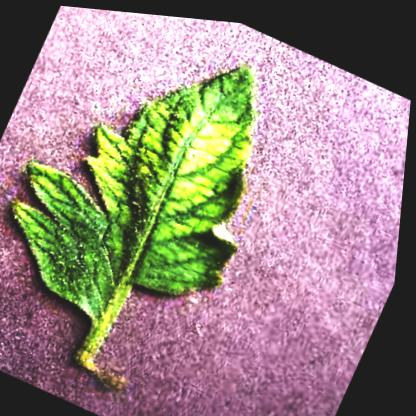Virus: (0, 0, 322, 415)
